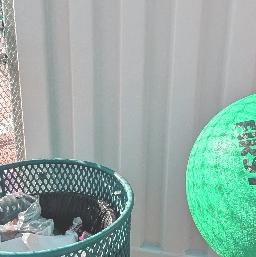algae: (182, 88, 256, 257)
